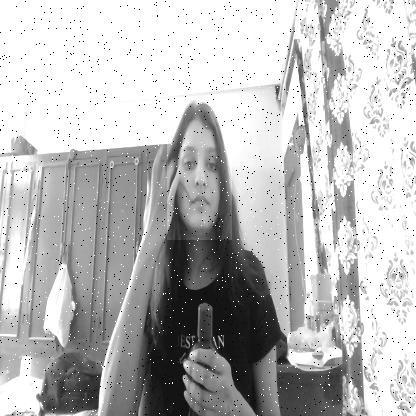Normal: (167, 102, 232, 240)
